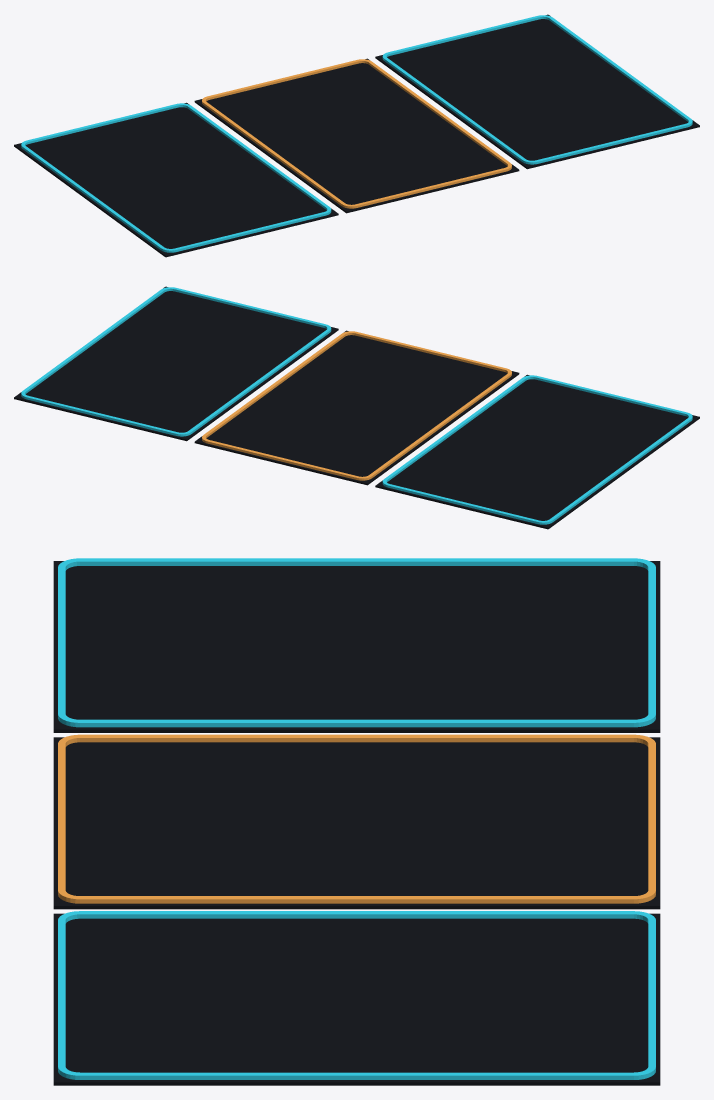
File: 23_PS_Table_ThreePreviewBays.fbx
The picture shows the model from 3 angles, top to bottom: view 1: azimuth 30°, elevation 25°; view 2: azimuth 150°, elevation 25°; view 3: azimuth 270°, elevation 25°; orthographic projection. The views are drawn at different scales.
Parts seen in each view (by area): view 1: PS_Table_ThreePreviewBays; view 2: PS_Table_ThreePreviewBays; view 3: PS_Table_ThreePreviewBays.
Part boxes in pixels (x1=…): PS_Table_ThreePreviewBays: x1=14, y1=14, x2=699, y2=257; PS_Table_ThreePreviewBays: x1=14, y1=286, x2=699, y2=529; PS_Table_ThreePreviewBays: x1=53, y1=558, x2=660, y2=1085.
Size of the model in its own units: 887 by 6.25 by 436.
